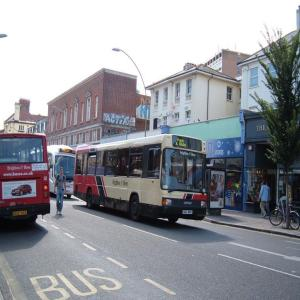Vehicle-registration-plate: (13, 211, 29, 218), (183, 210, 194, 215)
